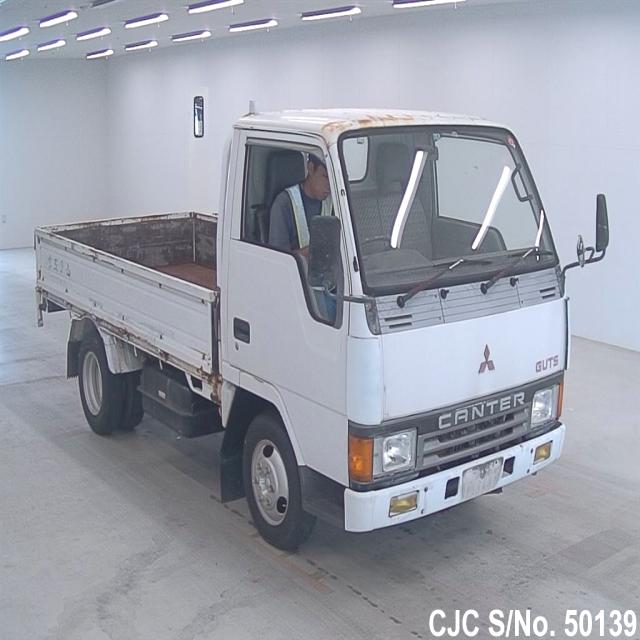truck: (36, 107, 613, 545)
